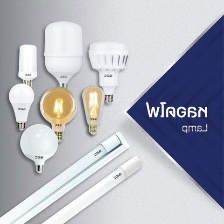light_bulb: (0, 129, 132, 224), (24, 154, 146, 224), (41, 19, 86, 93), (86, 39, 131, 105), (17, 120, 61, 177), (37, 84, 78, 143), (79, 82, 107, 137), (6, 81, 36, 131), (15, 41, 40, 93)
